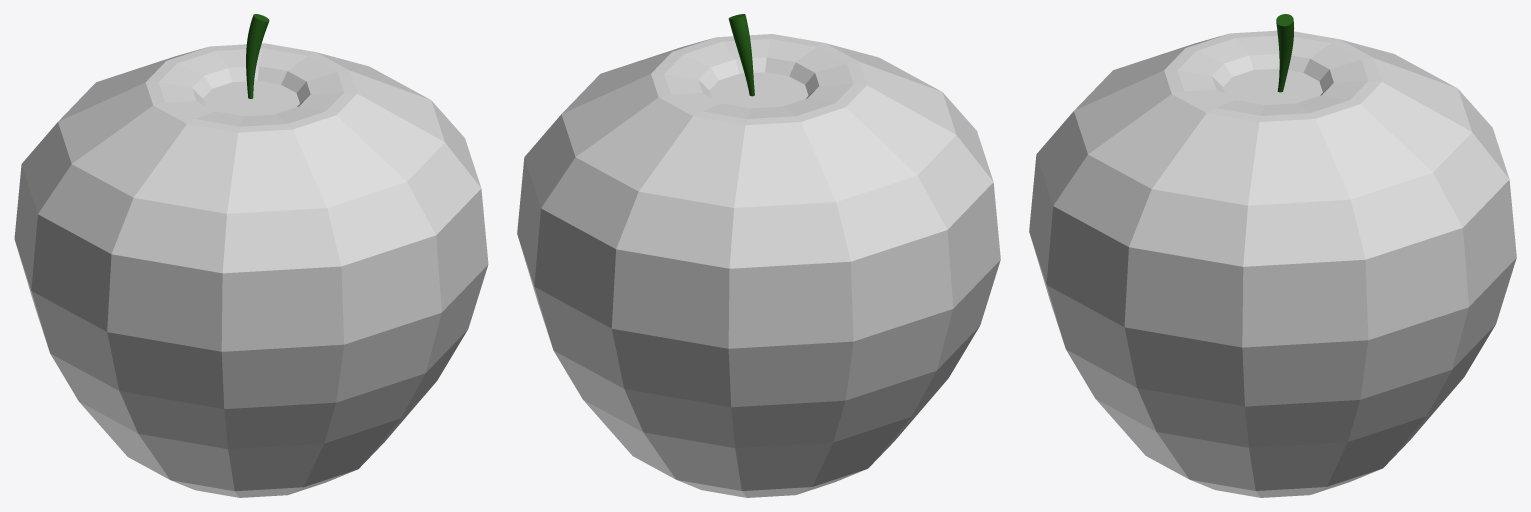
The model's file is Mela.fbx.
The picture shows the model from 3 angles, left to right: view 1: azimuth 30°, elevation 25°; view 2: azimuth 150°, elevation 25°; view 3: azimuth 270°, elevation 25°; orthographic projection. The views are drawn at different scales.
Visible parts, largest first — view 1: manzana; view 2: manzana; view 3: manzana.
Boxes of the visible parts, <box> form: manzana: <box>14,14,488,497</box>; manzana: <box>517,14,1000,497</box>; manzana: <box>1029,14,1516,497</box>.
Size of the model in its own units: 7.18 by 7.28 by 7.18.
